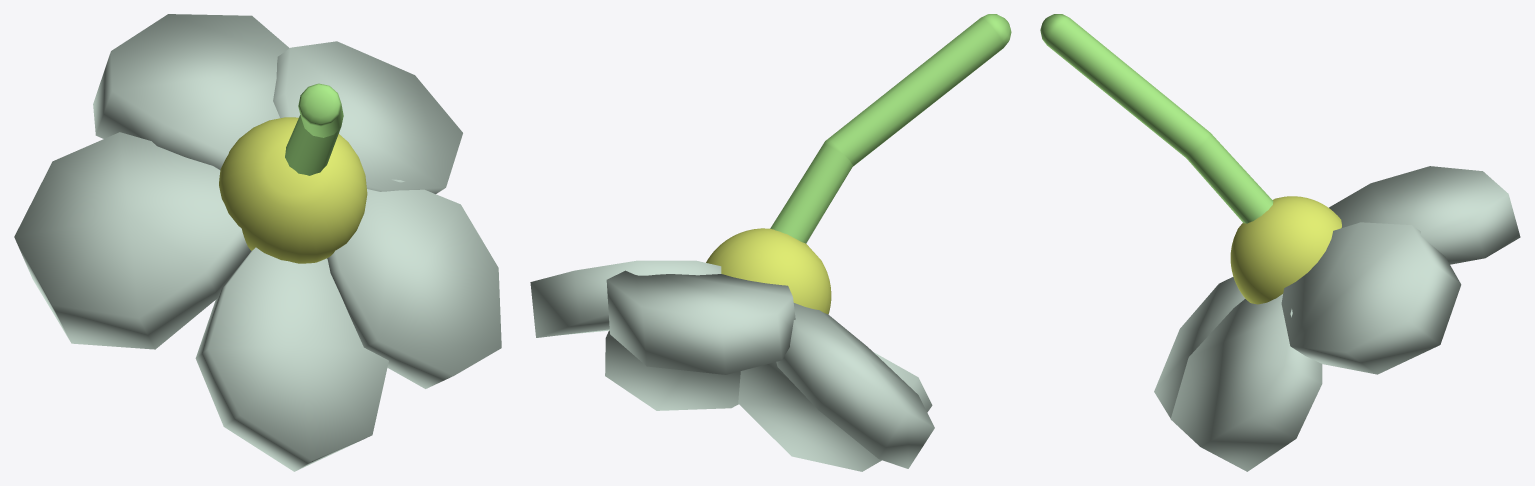
Rendered from daisygrouped.fbx.
The picture shows the model from 3 angles, left to right: view 1: azimuth 30°, elevation 25°; view 2: azimuth 150°, elevation 25°; view 3: azimuth 270°, elevation 25°; orthographic projection. The views are drawn at different scales.
Parts seen in each view (by area): view 1: s.0046; view 2: s.0046; view 3: s.0046.
Boxes of the visible parts, left/top/right/bottom form: s.0046: left=14, top=14, right=501, bottom=471; s.0046: left=530, top=14, right=1011, bottom=471; s.0046: left=1040, top=14, right=1520, bottom=471.
Size of the model in its own units: 15.64 by 16.4 by 18.58.
